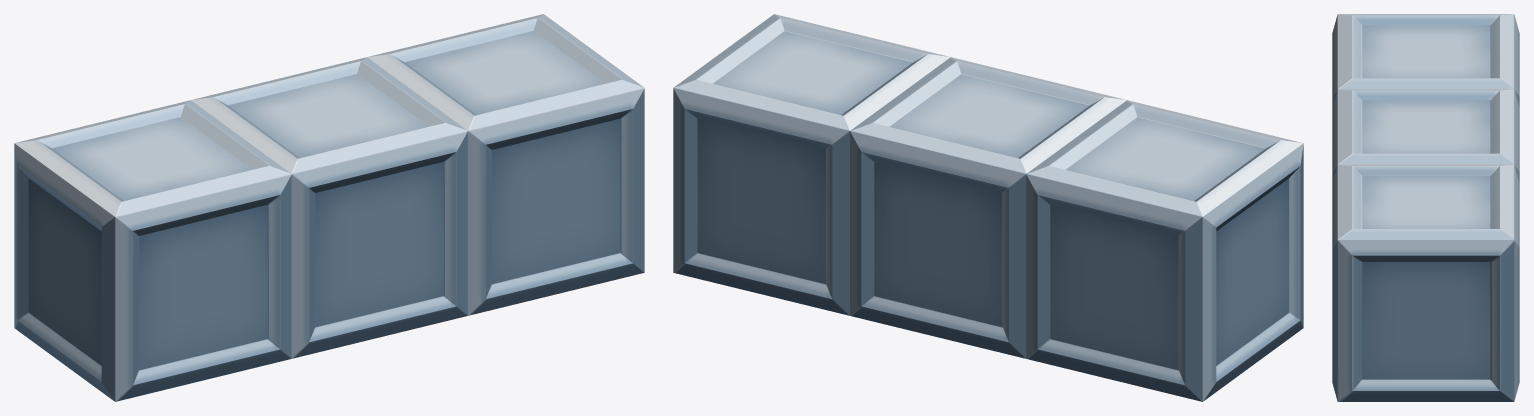
The model's file is PrototypeI3.fbx.
3 views of the same model, side by side, from view 1: azimuth 30°, elevation 25°; view 2: azimuth 150°, elevation 25°; view 3: azimuth 270°, elevation 25° (orthographic). The views are drawn at different scales.
Parts seen in each view (by area): view 1: polySurface1; view 2: polySurface1; view 3: polySurface1.
Part boxes in pixels (left/top/right/bottom): polySurface1: left=14, top=14, right=644, bottom=401; polySurface1: left=673, top=14, right=1303, bottom=401; polySurface1: left=1332, top=14, right=1519, bottom=401.
Size of the model in its own units: 2.66 by 0.9244 by 0.9147.
Materials: 1 (1 with a texture image).
